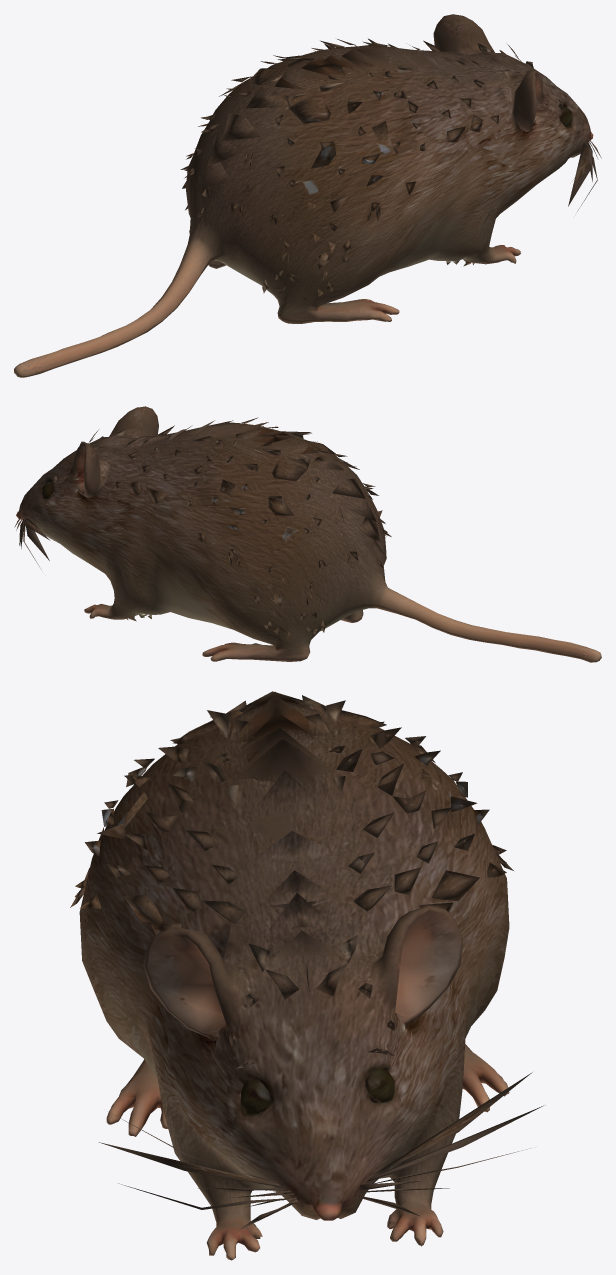
The picture shows the model from 3 angles, top to bottom: view 1: azimuth 30°, elevation 25°; view 2: azimuth 150°, elevation 25°; view 3: azimuth 270°, elevation 25°; orthographic projection. The views are drawn at different scales.
Parts seen in each view (by area): view 1: tripo_node_2c78892e-f024-4748-b634-203db86be686; view 2: tripo_node_2c78892e-f024-4748-b634-203db86be686; view 3: tripo_node_2c78892e-f024-4748-b634-203db86be686.
Boxes of the visible parts, left/top/right/bottom form: tripo_node_2c78892e-f024-4748-b634-203db86be686: left=14, top=14, right=601, bottom=377; tripo_node_2c78892e-f024-4748-b634-203db86be686: left=14, top=406, right=601, bottom=662; tripo_node_2c78892e-f024-4748-b634-203db86be686: left=70, top=691, right=543, bottom=1260.
Size of the model in its own units: 0.998 by 0.3535 by 0.3809.
1 material, 1 textured.
